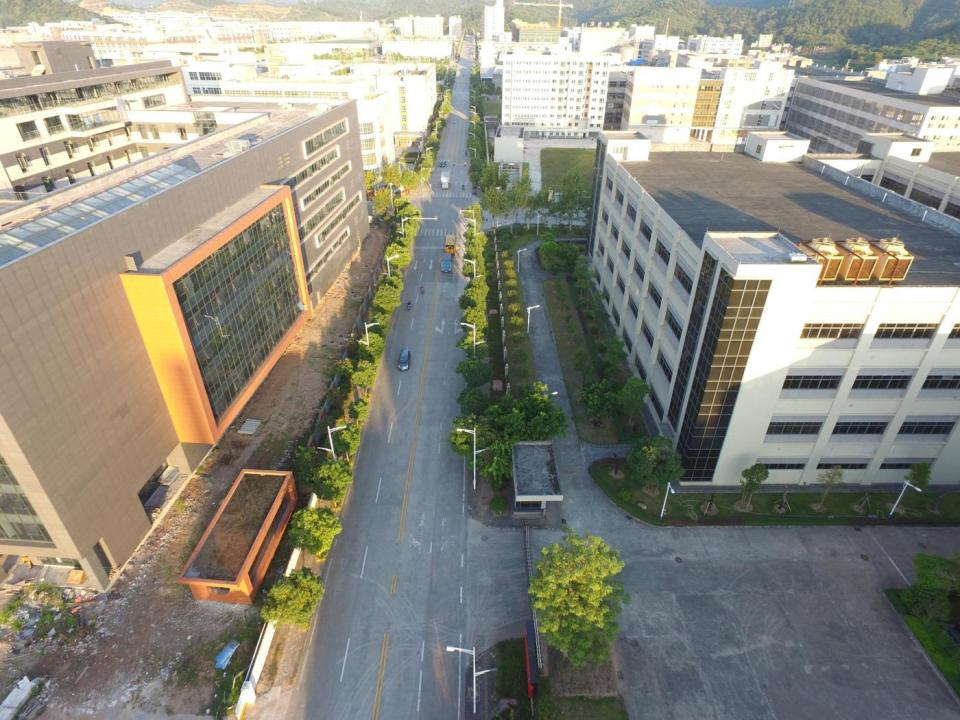bus: (444, 234, 458, 254)
car: (398, 348, 412, 371), (439, 160, 446, 168)
truck: (441, 252, 452, 272), (441, 170, 450, 188)
